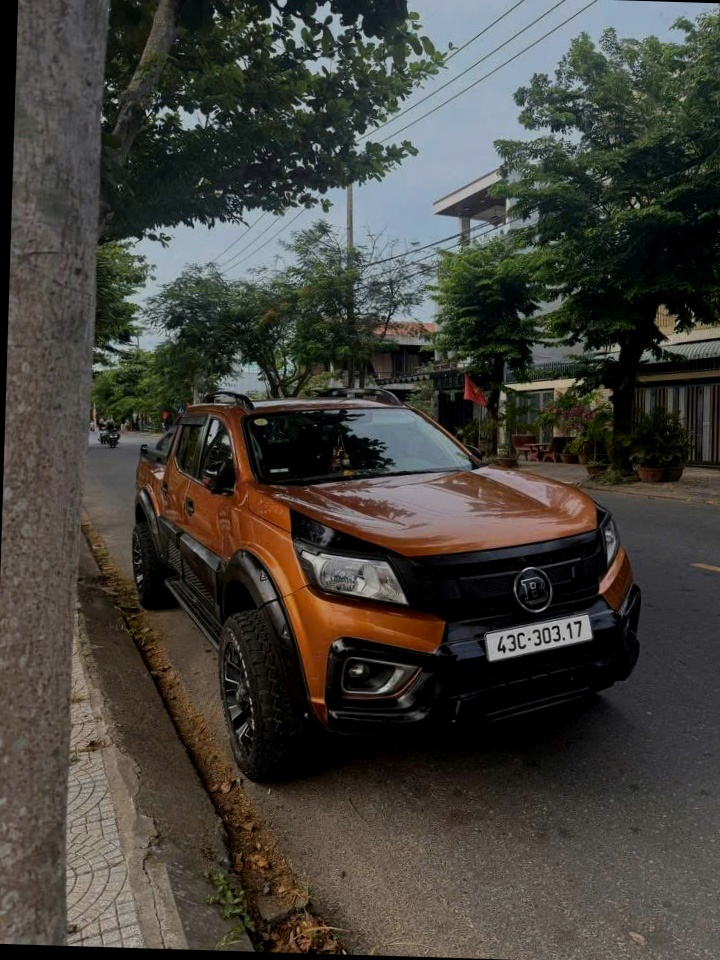Bien-so: (444, 614, 557, 676)
